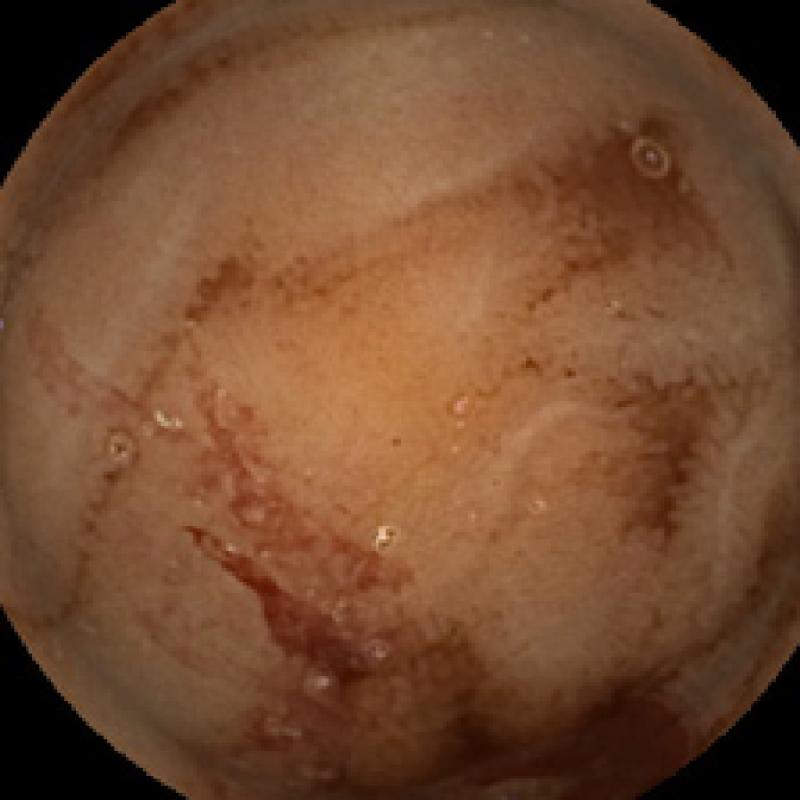bleeding: (417, 682, 695, 792), (193, 532, 371, 689)
